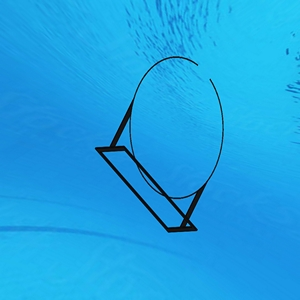circle: (94, 52, 227, 234)
